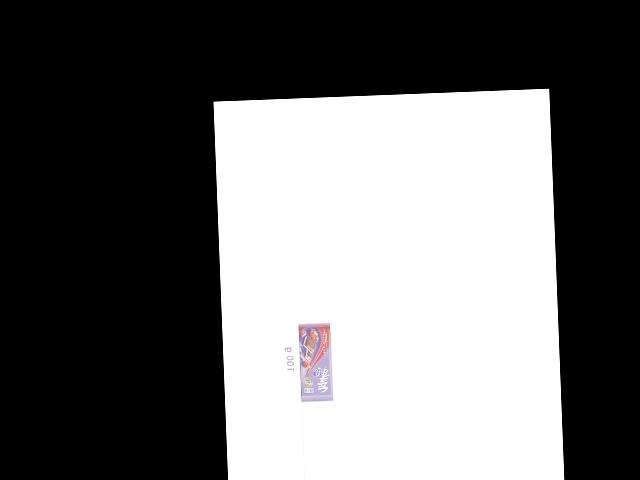chocolate: (294, 322, 333, 401)
